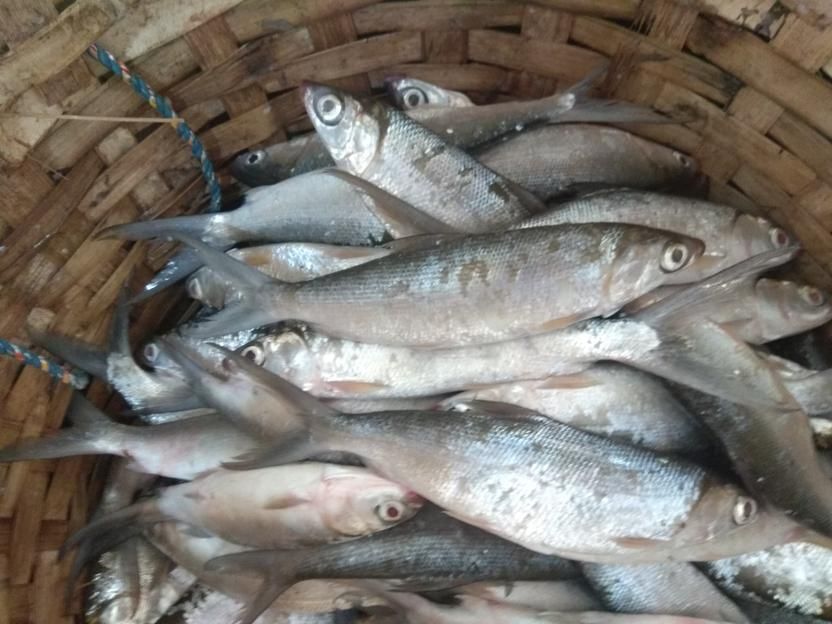Fish head: (294, 76, 387, 175), (318, 461, 422, 538), (607, 224, 705, 304), (219, 322, 316, 397), (751, 273, 832, 339), (684, 475, 765, 541), (183, 249, 259, 311), (726, 210, 799, 272), (228, 132, 312, 183), (389, 73, 476, 110), (634, 137, 698, 185)
Fish tail: (639, 245, 804, 413), (204, 341, 340, 474), (157, 227, 284, 343), (23, 263, 142, 378), (90, 212, 226, 311), (550, 55, 696, 125), (321, 167, 463, 238), (55, 481, 172, 563), (116, 333, 214, 419), (1, 386, 106, 464), (206, 545, 296, 624)
